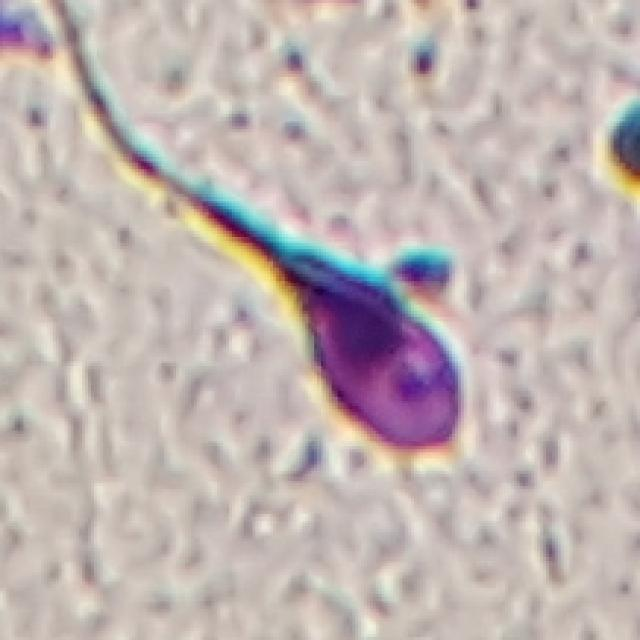normal sperm: (166, 176, 464, 454)
